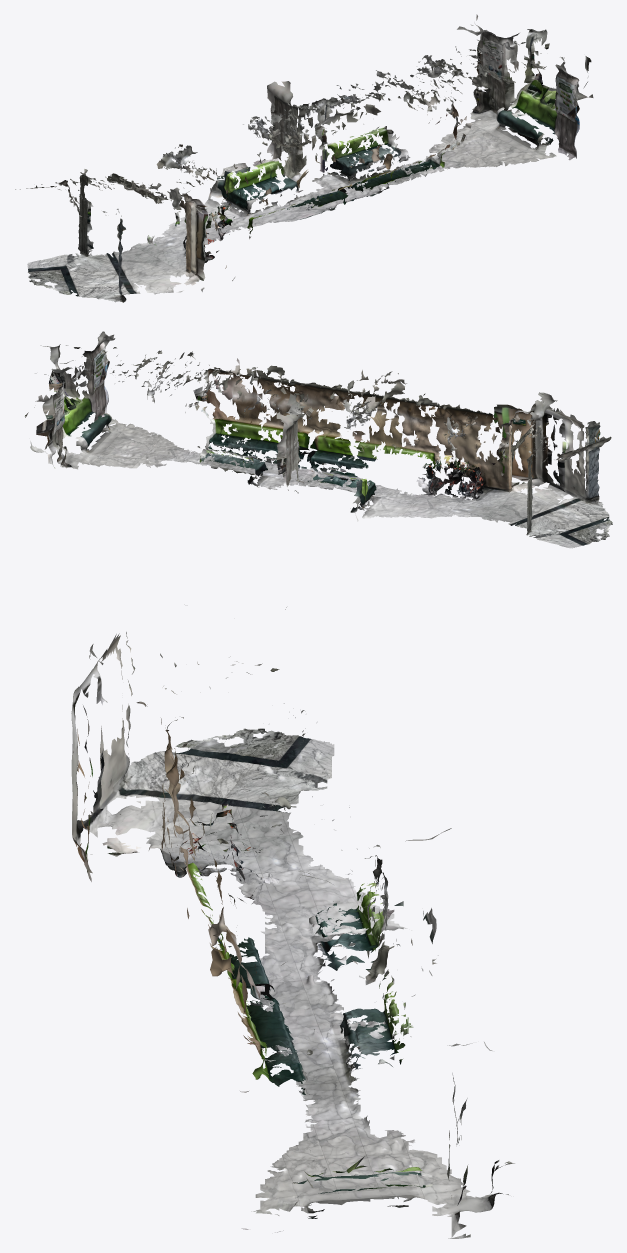
The model's file is 147555-tower6rt-tex.glb.
3 renders of one model, top to bottom at view 1: azimuth 30°, elevation 25°; view 2: azimuth 150°, elevation 25°; view 3: azimuth 270°, elevation 25°, orthographic. The views are drawn at different scales.
Parts seen in each view (by area): view 1: Node; view 2: Node; view 3: Node.
Part boxes in pixels (x1,y1,x2,y2): Node: (15,14,593,302); Node: (25,331,612,548); Node: (71,607,514,1238).
Bounding box in the file's own units: 18.51 × 3.49 × 6.89.
Materials: 15 (15 with a texture image).
